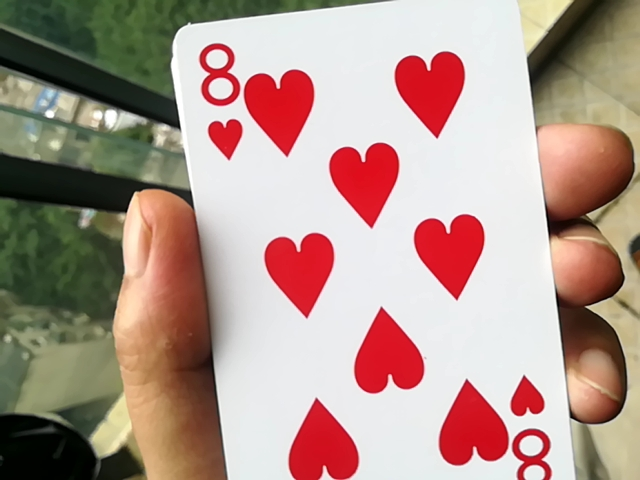hx 8: (163, 12, 555, 480)
